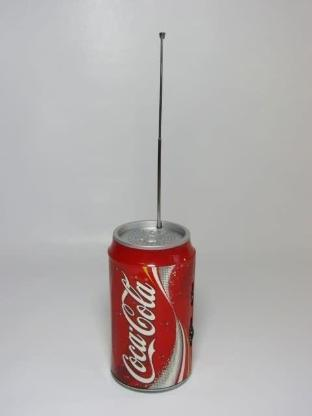Can: (107, 219, 197, 393)
